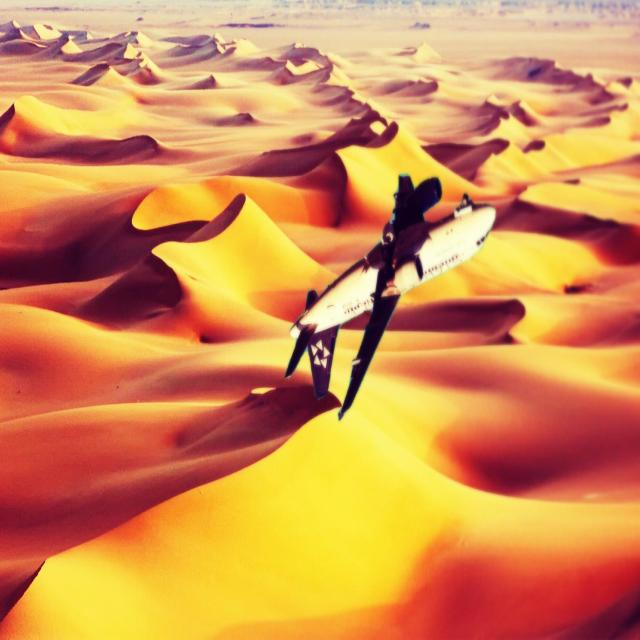airplane: (284, 172, 497, 420)
